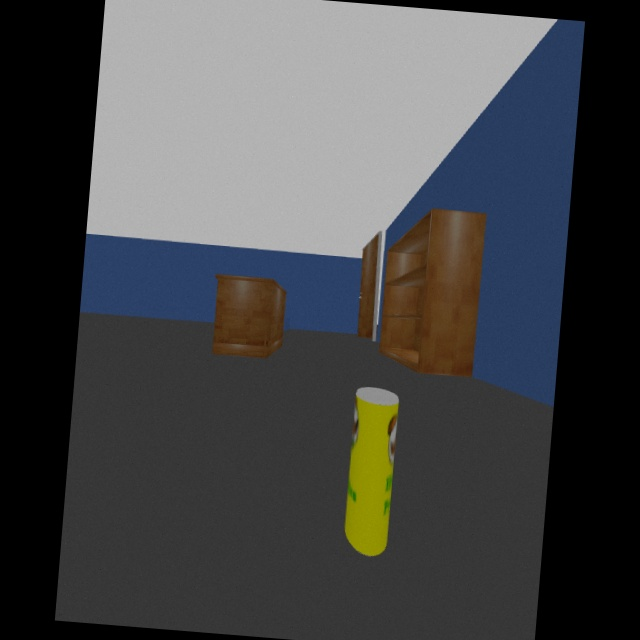chipsdose_gelb: (345, 386, 400, 558)
